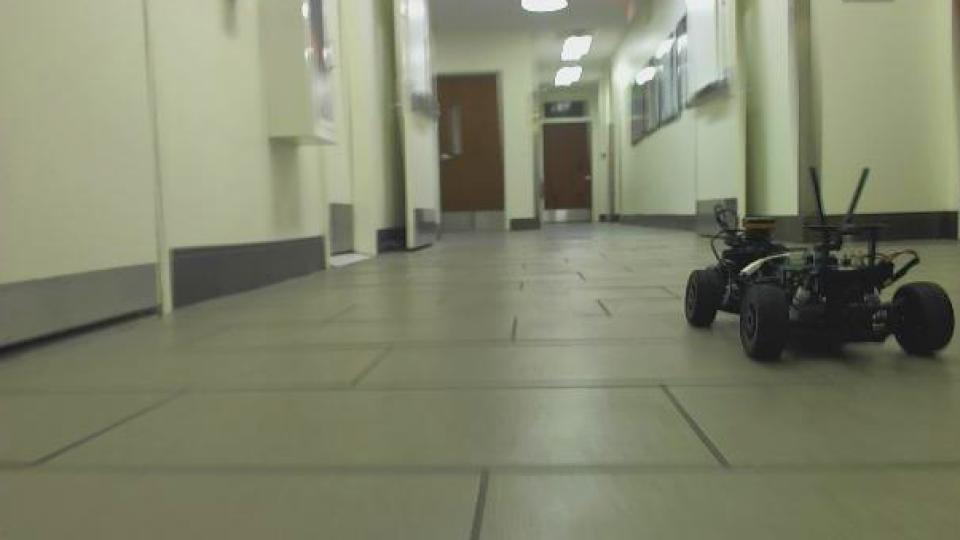car: (683, 162, 960, 364)
